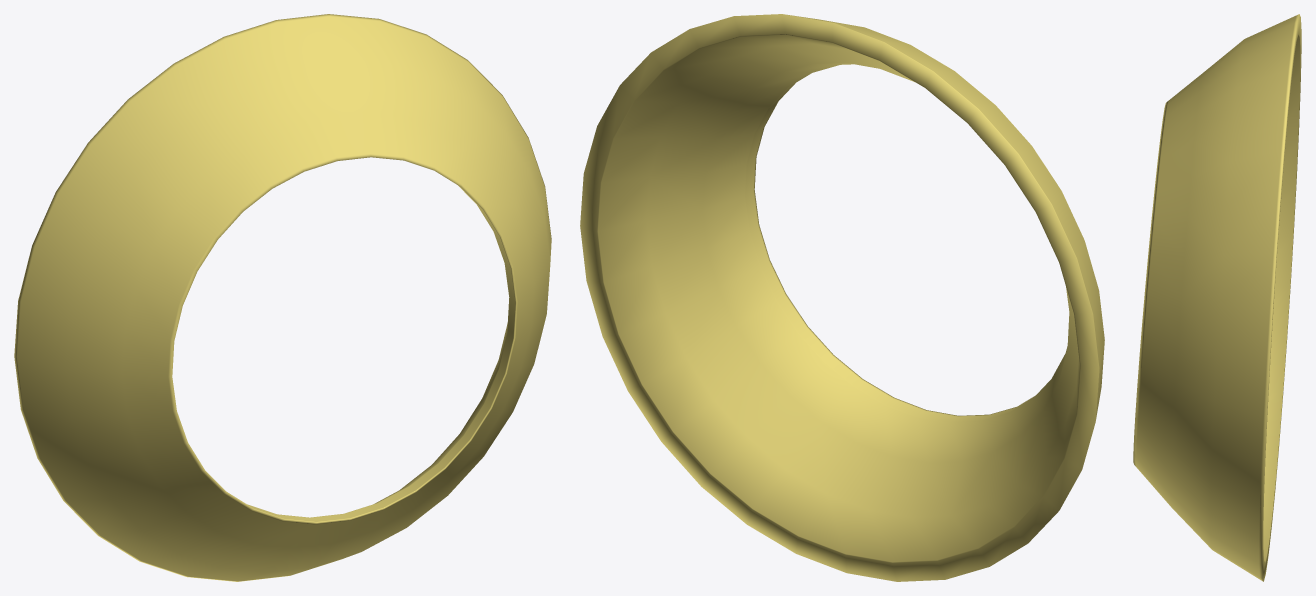
Rendered from anterior-segment-of-eyeball-r.glb.
3 views of the same model, side by side, from view 1: azimuth 30°, elevation 25°; view 2: azimuth 150°, elevation 25°; view 3: azimuth 270°, elevation 25° (orthographic). The views are drawn at different scales.
Parts seen in each view (by area): view 1: Anterior segment of eyeball.r; view 2: Anterior segment of eyeball.r; view 3: Anterior segment of eyeball.r.
Part boxes in pixels (bbox=[...]): Anterior segment of eyeball.r: bbox=[14, 14, 551, 581]; Anterior segment of eyeball.r: bbox=[580, 14, 1104, 581]; Anterior segment of eyeball.r: bbox=[1133, 14, 1301, 581].
Bounding box in the file's own units: 0.0223 × 0.0223 × 0.0066.
